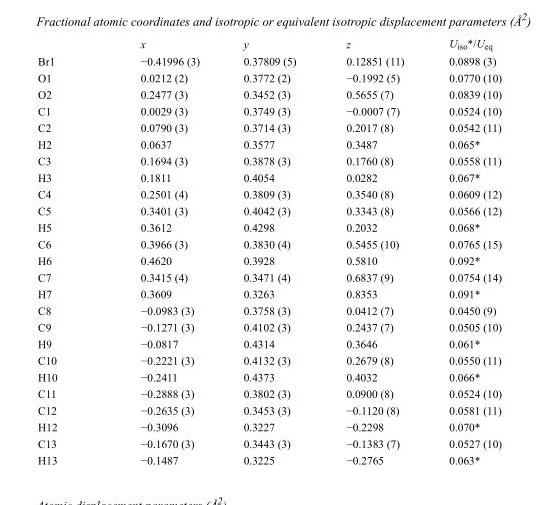table: (37, 36, 501, 466)
table column: (98, 36, 220, 466), (320, 36, 425, 466), (220, 36, 320, 466), (425, 36, 501, 466), (37, 36, 98, 466)
table column header: (37, 36, 501, 52)
table row: (37, 52, 501, 69), (37, 85, 501, 102), (37, 118, 501, 135), (37, 135, 501, 152), (37, 168, 501, 185), (37, 185, 501, 202), (37, 218, 501, 235), (37, 251, 501, 268), (37, 268, 501, 285), (37, 301, 501, 318), (37, 318, 501, 335), (37, 351, 501, 368), (37, 384, 501, 401), (37, 401, 501, 418), (37, 434, 501, 451), (37, 36, 501, 52), (37, 69, 501, 85), (37, 102, 501, 118), (37, 152, 501, 168), (37, 202, 501, 218), (37, 235, 501, 251), (37, 285, 501, 301), (37, 335, 501, 351), (37, 368, 501, 384), (37, 418, 501, 434), (37, 451, 501, 466)
